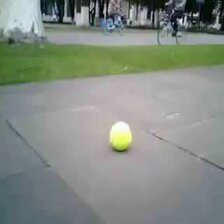tennis: (109, 121, 132, 151)
